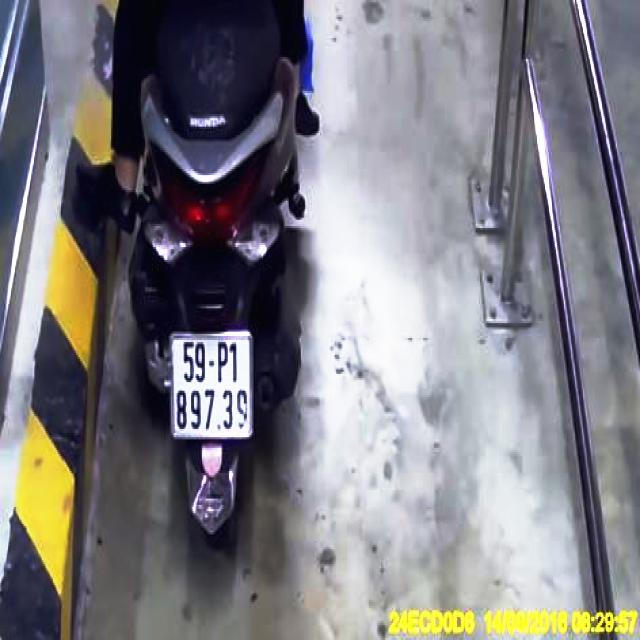license_plate: (176, 333, 255, 439)
